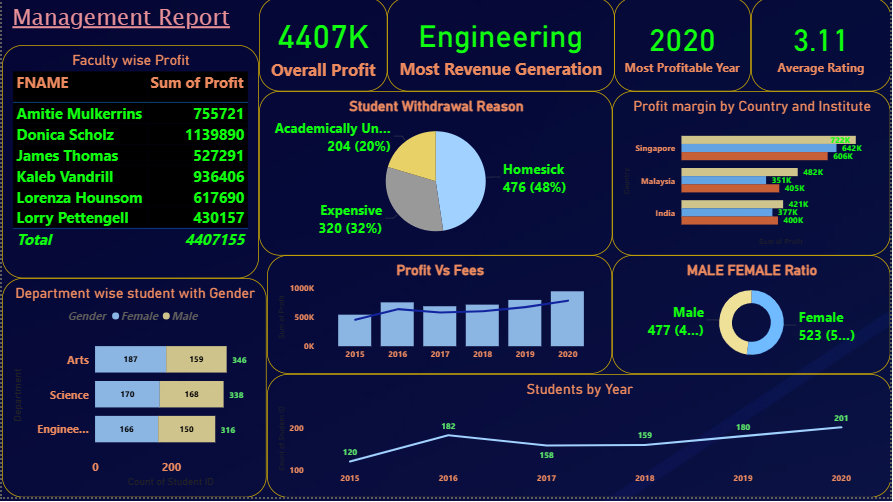

What the dashboard file says about the page in this screenshot:
{"tool":"powerbi","page":{"name":"Page 3","canvas":[1280,720],"ordinal":2},"visuals":[{"type":"textbox","box":[10.1,0,346,107.5],"z":0},{"type":"card","fields":{"Values":["Avg(Feedback.Average Feedback)"]},"box":[1078.4,0,201.6,136.1],"z":1000},{"type":"card","fields":{"Values":["Min(SOC.Department)"]},"box":[554.3,0,327.6,136.1],"z":2000},{"type":"card","fields":{"Values":["Min(Student.Year)"]},"box":[881.9,0,196.5,136.1],"z":3000},{"type":"card","fields":{"Values":["Sum(Student.Profit)"]},"box":[369.6,0,184.8,136.1],"z":4000},{"type":"pieChart","title":"Student Withdrawal Reason","fields":{"Category":["Student.Reason For Withdrawal"],"Y":["CountNonNull(Student.Student ID)"]},"box":[369.6,136.1,509,236.9],"z":5000},{"type":"barChart","title":"Department wise student with Gender","fields":{"Category":["SOC.Department"],"Y":["CountNonNull(Student.Student ID)"],"Series":["Student.Gender"]},"box":[0,404.8,381.3,315.8],"z":6000},{"type":"clusteredBarChart","title":"Profit margin by Country and Institute","fields":{"Category":["SOC.Country"],"Series":["SOC.Institute"],"Y":["Sum(Student.Profit)"]},"box":[878.5,136.1,401.5,236.9],"z":7000},{"type":"donutChart","title":"MALE FEMALE Ratio","fields":{"Category":["Student.Gender"],"Y":["CountNonNull(Student.Student ID)"]},"box":[878.5,371.2,401.5,171.3],"z":8000},{"type":"lineChart","title":"Students by Year","fields":{"Category":["Student.Year"],"Y":["CountNonNull(Student.Student ID)"]},"box":[381.3,542.6,898.7,178.1],"z":9000},{"type":"lineStackedColumnComboChart","title":"Profit Vs Fees","fields":{"Category":["Student.Year"],"Y":["Sum(Student.Profit)"],"Y2":["Sum(Student.Fee)"]},"box":[381.3,371.2,497.2,171.3],"z":10000},{"type":"tableEx","title":"Faculty wise Profit","fields":{"Values":["Student.FNAME","Sum(Student.Profit)"]},"box":[0,68.9,369.6,336],"z":11000}]}

Visuals, with their boxes in screenshot pixels (x1, y1, x2, y2), scaled from the page's 1280x720 canvas onto the 893x502 screenshot:
textbox: [7,0,248,75]
card - Avg(Feedback.Average Feedback): [752,0,892,95]
card - Min(SOC.Department): [387,0,615,95]
card - Min(Student.Year): [615,0,752,95]
card - Sum(Student.Profit): [258,0,387,95]
"Student Withdrawal Reason" pieChart: [258,95,613,260]
"Department wise student with Gender" barChart: [0,282,266,501]
"Profit margin by Country and Institute" clusteredBarChart: [613,95,892,260]
"MALE FEMALE Ratio" donutChart: [613,259,892,378]
"Students by Year" lineChart: [266,378,892,501]
"Profit Vs Fees" lineStackedColumnComboChart: [266,259,613,378]
"Faculty wise Profit" tableEx: [0,48,258,282]
